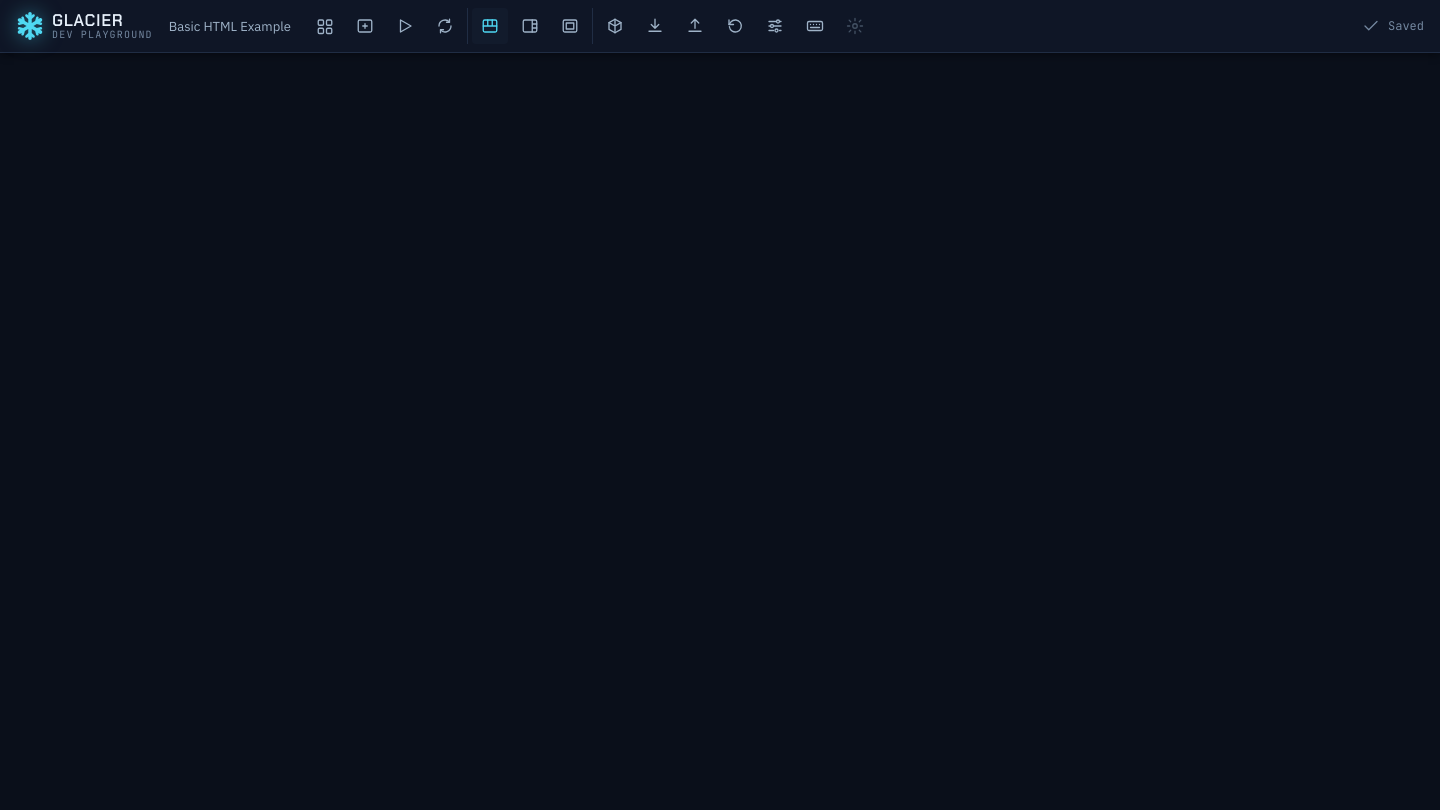
Test case: Toolbar › opens the reset dialog from the toolbar button
Click the button named "Reset": (735, 26) [717,8,753,44]
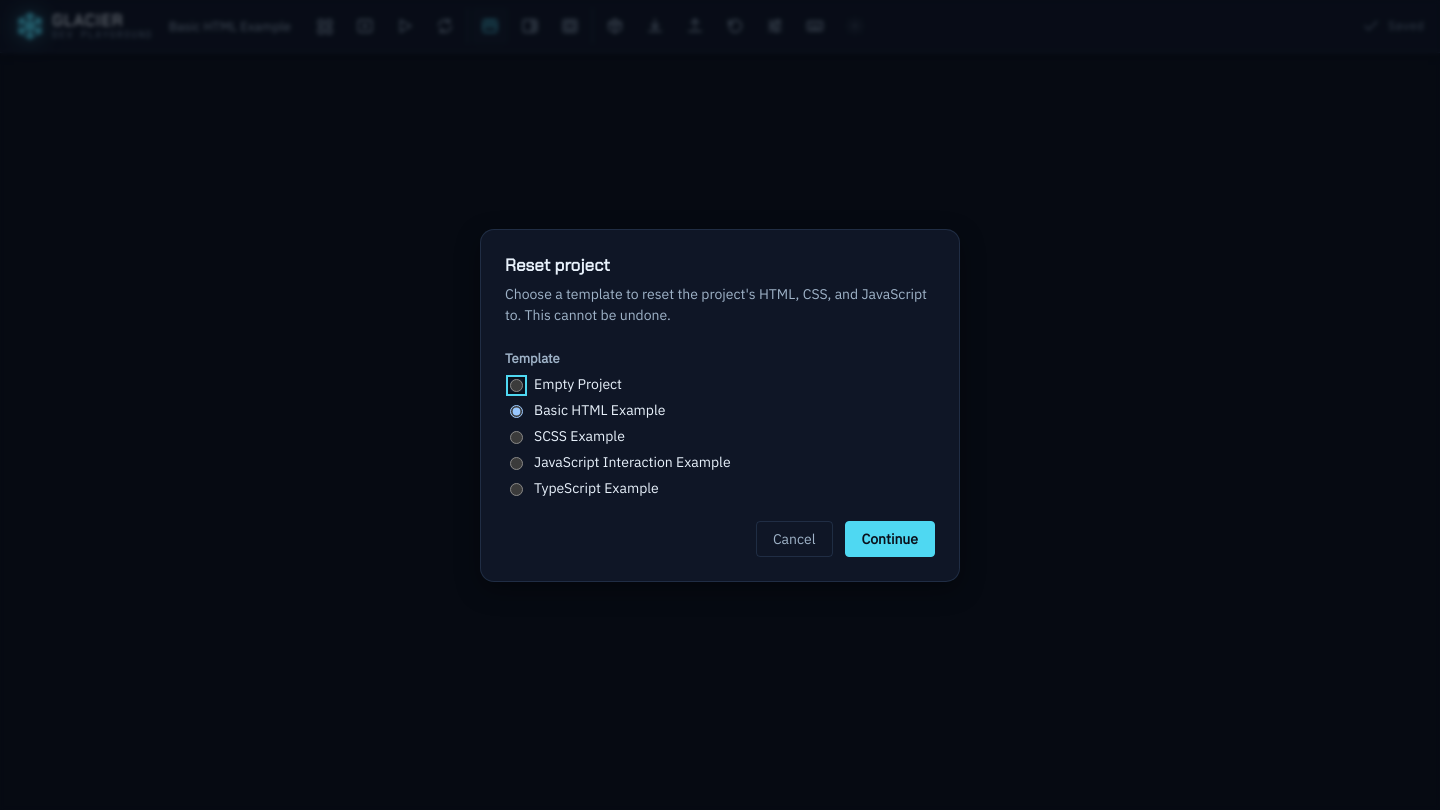
Expected: the dialog "Reset project" is shown, [480,228,960,582]
